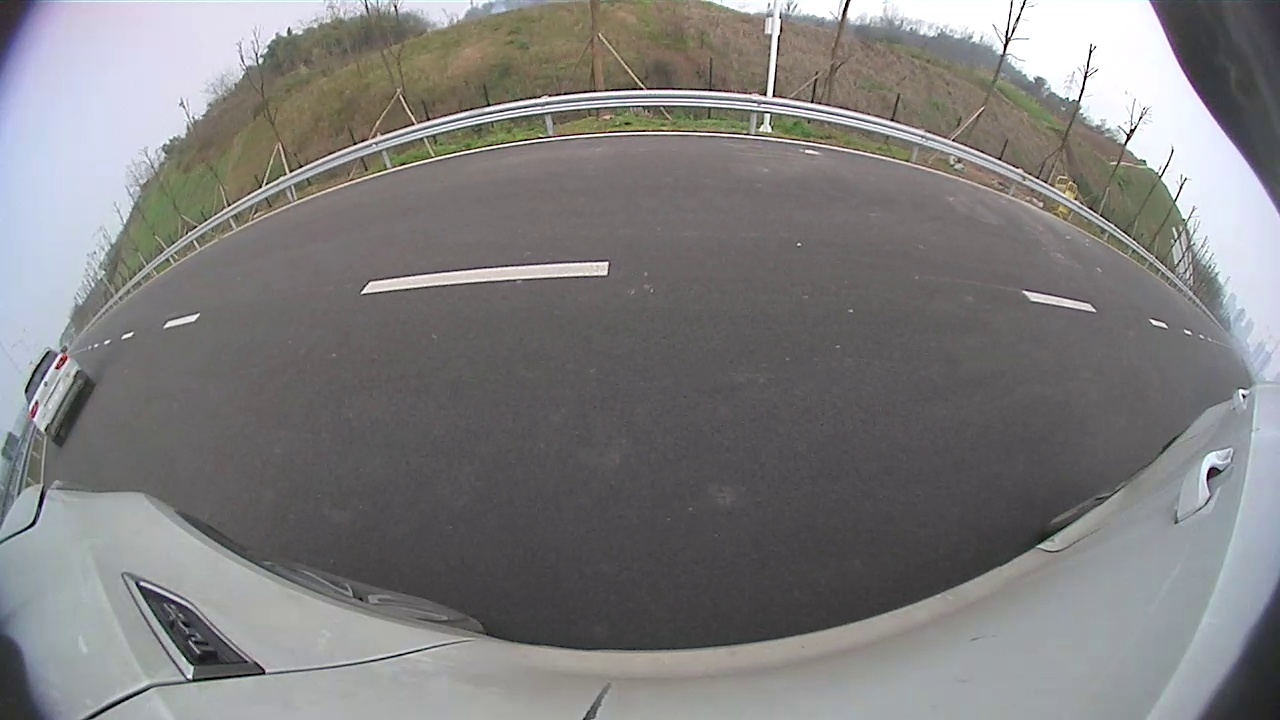car: (642, 130, 740, 212)
